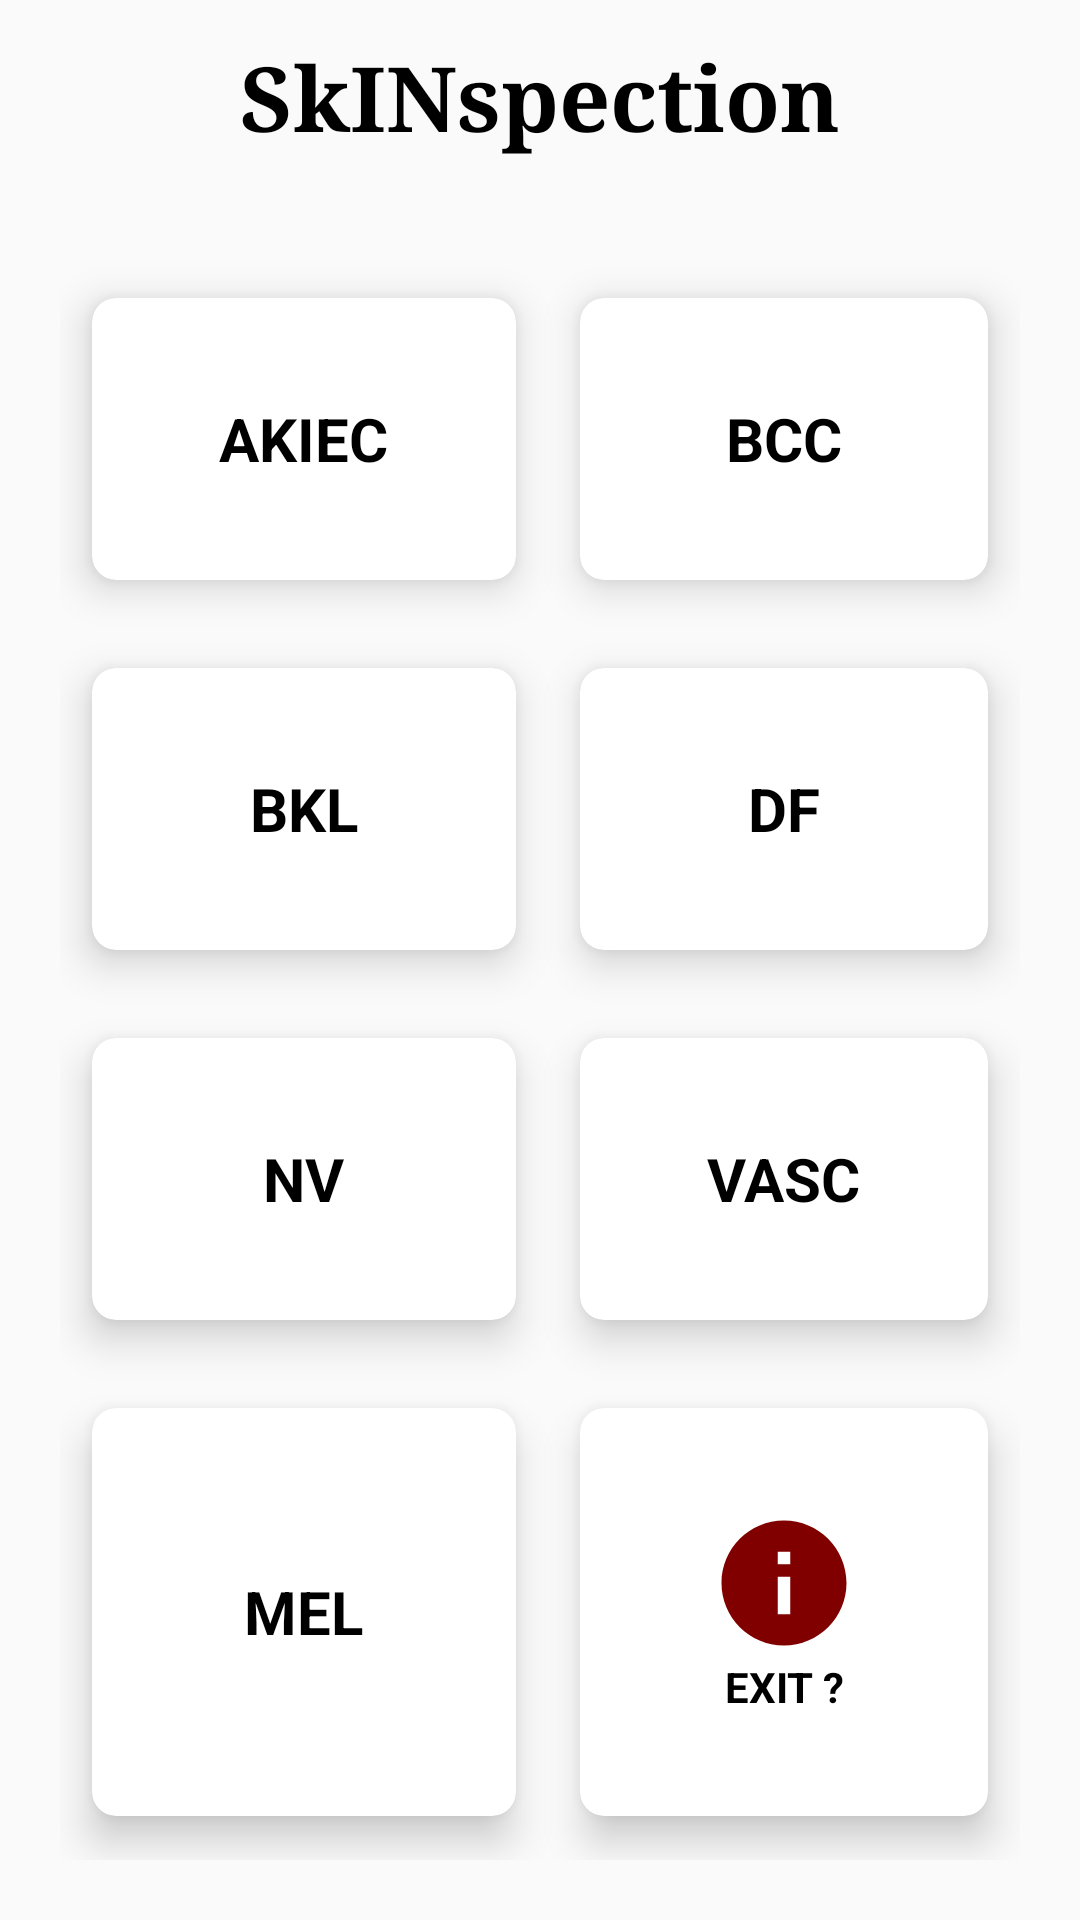

Screen size 1080 x 1920. Icon name, then its center in pixels as (x,y):
info: (784,1583)
